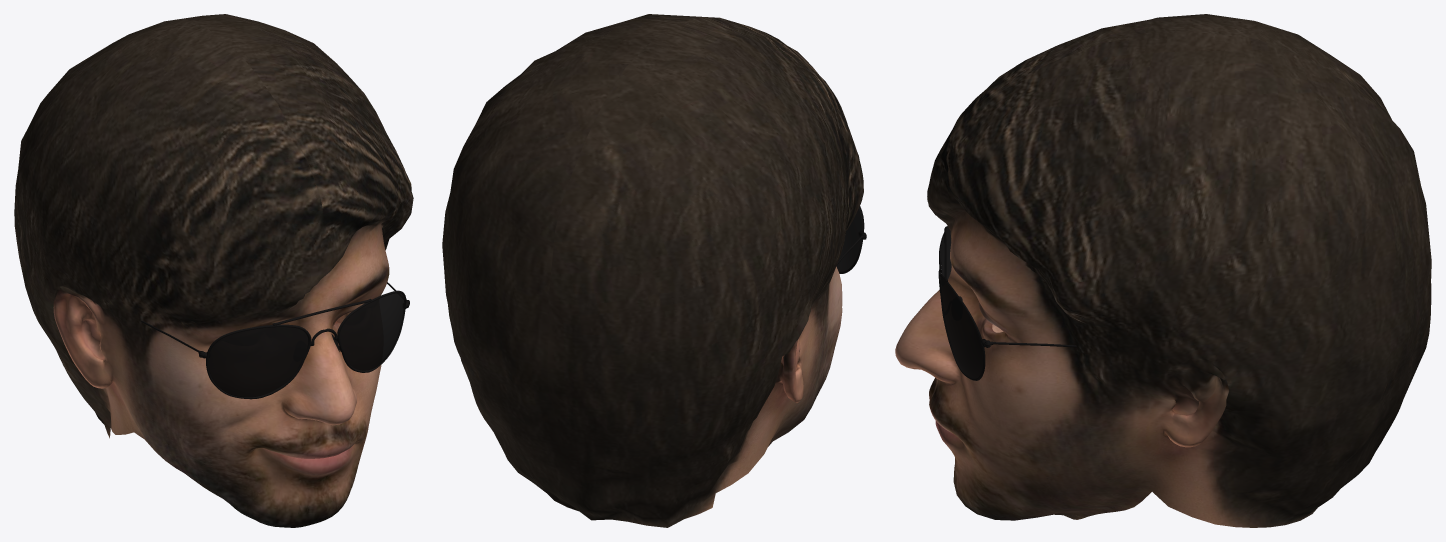
Rendered from chuhead.glb.
The picture shows the model from 3 angles, left to right: view 1: azimuth 30°, elevation 25°; view 2: azimuth 150°, elevation 25°; view 3: azimuth 270°, elevation 25°; orthographic projection. The views are drawn at different scales.
Visible parts, largest first — view 1: AvatarHead, glasses; view 2: AvatarHead, glasses; view 3: AvatarHead, glasses.
Part boxes in pixels (x1,y1,x2,y2): AvatarHead: [14, 14, 413, 527]; glasses: [141, 282, 409, 399]; AvatarHead: [442, 14, 863, 527]; glasses: [836, 206, 866, 273]; AvatarHead: [895, 14, 1431, 527]; glasses: [938, 226, 1076, 380].
Bounding box in the file's own units: 0.1821 × 0.229 × 0.2316.
2 materials, 2 textured.
